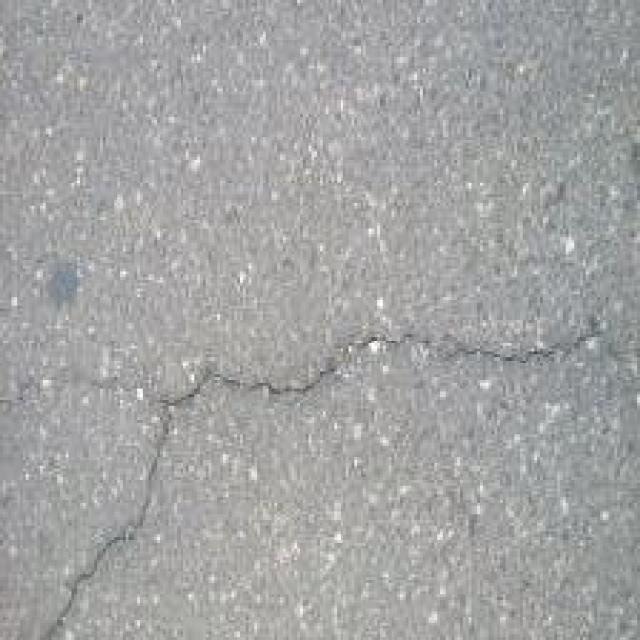crack: (48, 298, 590, 640)
